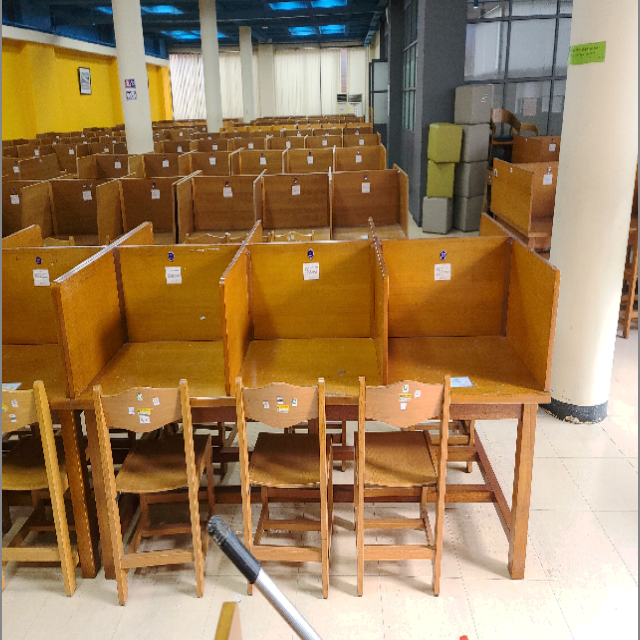empty: (63, 216, 236, 484), (392, 214, 552, 476), (242, 214, 386, 490)
